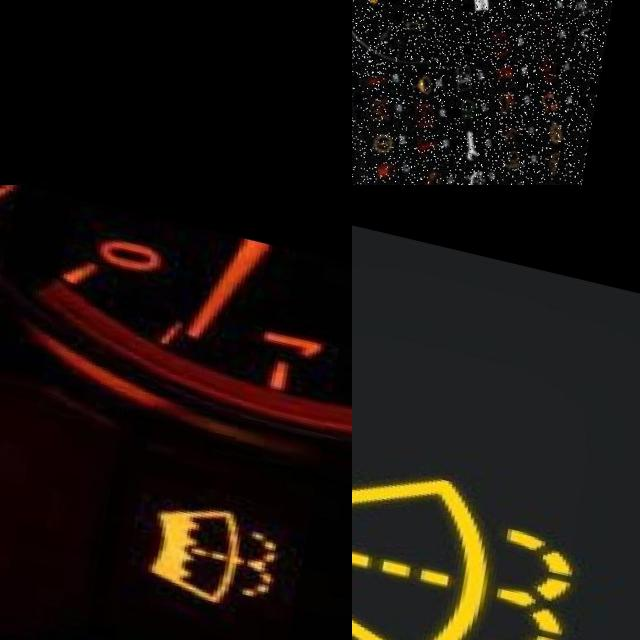Washer Fluid: (352, 432, 592, 640), (158, 482, 291, 600)
